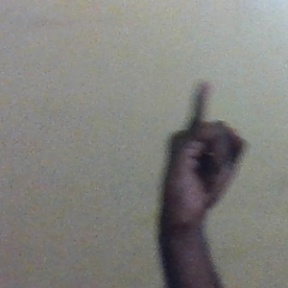I: (158, 77, 250, 233)
